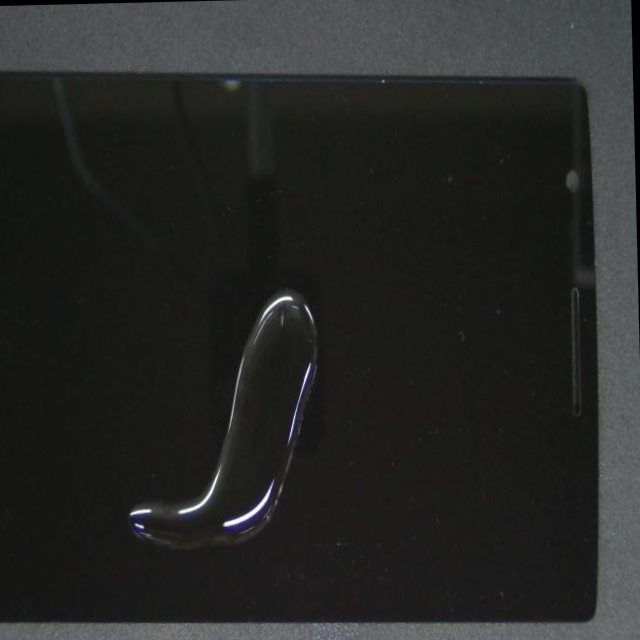oil: (88, 347, 469, 640)
